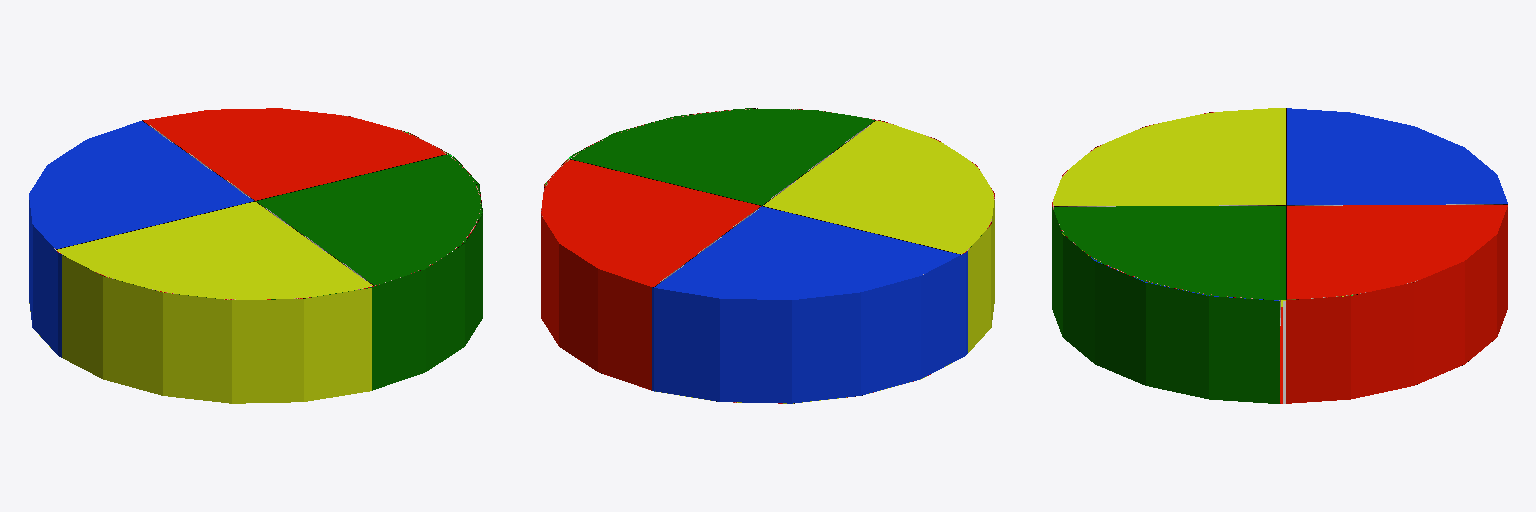
The picture shows the model from 3 angles: view 1: azimuth 30°, elevation 25°; view 2: azimuth 150°, elevation 25°; view 3: azimuth 270°, elevation 25°; orthographic projection.
Visible parts, largest first — view 1: Cylinder; view 2: Cylinder; view 3: Cylinder.
Boxes of the visible parts, box(x1,y1,x2,y2) form: Cylinder: box(29, 108, 482, 403); Cylinder: box(541, 108, 994, 403); Cylinder: box(1052, 108, 1507, 403).
Size of the model in its own units: 2 by 0.5 by 2.
1 materials, 1 textured.